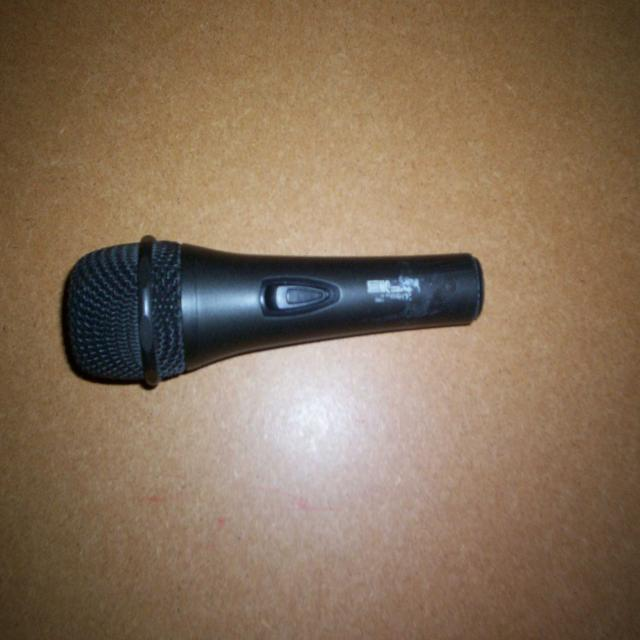microphone: (66, 236, 478, 388)
